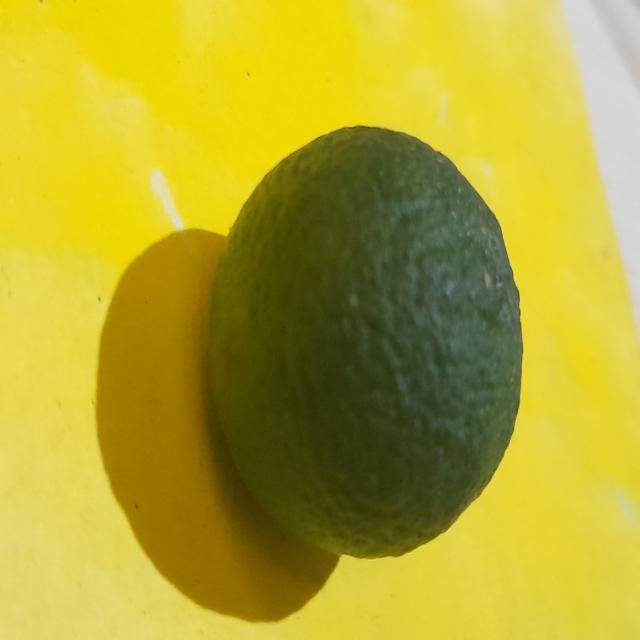heathy: (210, 122, 523, 563)
